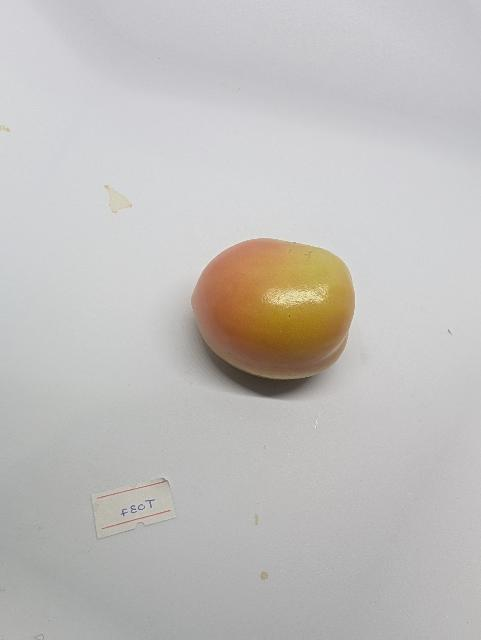turning: (182, 224, 362, 401)
